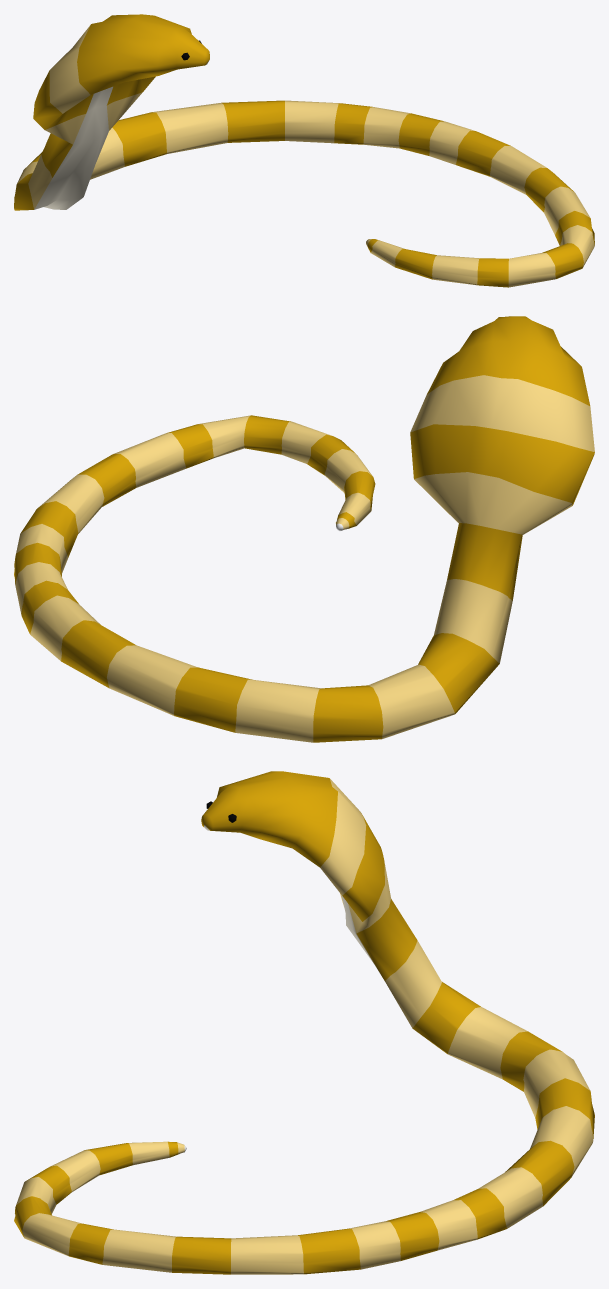
File: KingCobra.glb
3 renders of one model, top to bottom at view 1: azimuth 30°, elevation 25°; view 2: azimuth 150°, elevation 25°; view 3: azimuth 270°, elevation 25°, orthographic. The views are drawn at different scales.
Parts seen in each view (by area): view 1: node-0; view 2: node-0; view 3: node-0.
Boxes of the visible parts, x1,y1,x2,y2 form: node-0: (14,14,594,287); node-0: (14,316,594,742); node-0: (14,771,594,1274).
Bounding box in the file's own units: 1 × 0.5114 × 0.9393.
